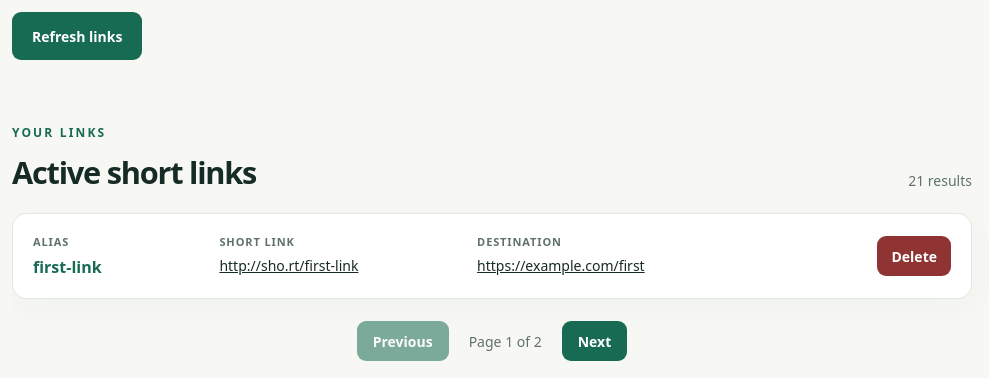
Test: ShortLinkList › shows the result count, link details, and paginates through the proxy
Expected: the text "21 results" is shown, [908,171,972,190]
Expected: the text "first-link" is shown, [33,256,102,278]
Click the button "Next" at (594, 341), box [562,321,627,361]
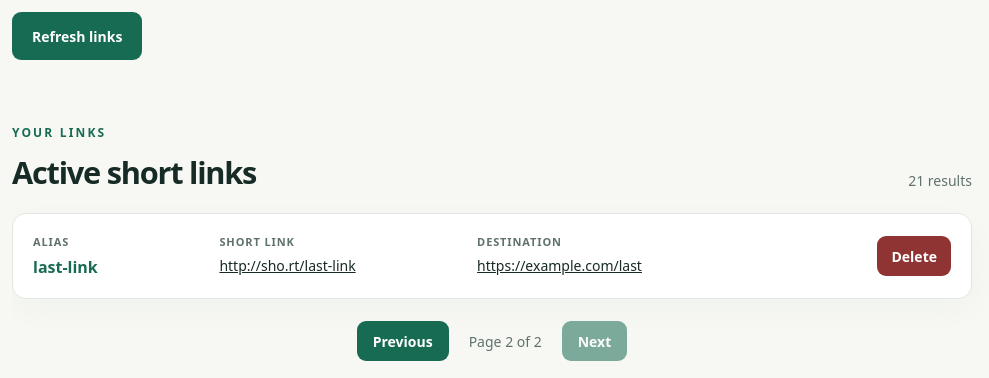
Now the text "last-link" is shown, box [33,256,98,278]
Now the text "Page 2 of 2" is shown, box [469,332,542,350]
Now the button "Next" is disabled, box [562,321,627,361]
Click the button "Previous" at (403, 341), box [357,321,449,361]
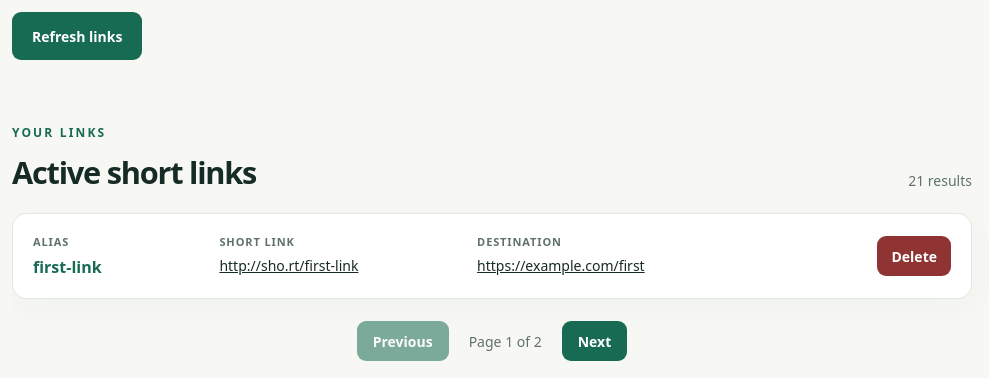
Now the text "first-link" is shown, box [33,256,102,278]
Now the text "Page 1 of 2" is shown, box [469,332,542,350]
